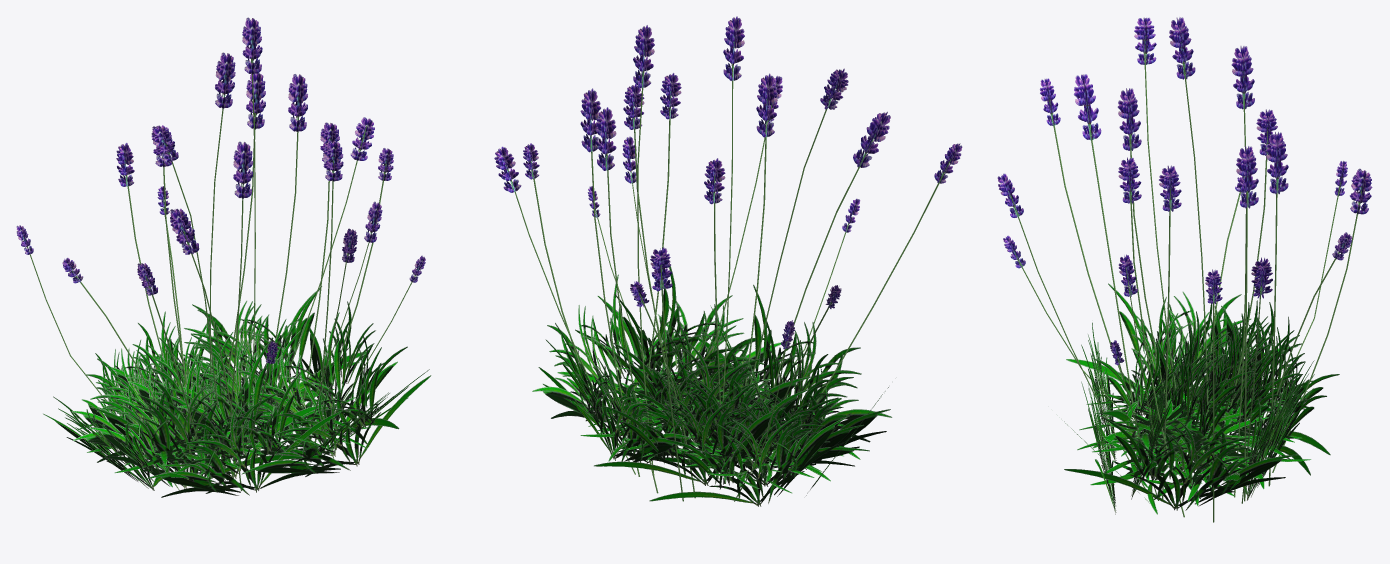
The model's file is lavender.fbx.
3 renders of one model, left to right at view 1: azimuth 30°, elevation 25°; view 2: azimuth 150°, elevation 25°; view 3: azimuth 270°, elevation 25°, orthographic. The views are drawn at different scales.
Parts seen in each view (by area): view 1: 134.001, 134.003, 134.018, 134.011, 134.009, 134.007, 134.015, 134.008, 134.017, 134.005, 134.013, 134.010 (+9 smaller); view 2: 134.016, 134.012, 134.007, 134.001, 134.015, 134.010, 134.013, 134.003, 134.011, 134.002, 134.014, 134.004 (+10 smaller); view 3: 134.007, 133.002, 133.001, 134.018, 134.010, 134.017, 134.004, 134.012, 134.015, 134.008, 134.009, 134.016 (+24 smaller).
Boxes of the visible parts, box(x1,y1,x2,y2) form: 134.001: box(146, 371, 342, 497); 134.003: box(241, 347, 431, 488); 134.018: box(90, 378, 304, 481); 134.011: box(210, 312, 397, 461); 134.009: box(131, 340, 323, 480); 134.007: box(301, 301, 407, 434); 134.015: box(150, 286, 366, 391); 134.008: box(89, 354, 210, 490); 134.017: box(43, 396, 188, 490); 134.005: box(73, 311, 224, 462); 134.013: box(143, 291, 359, 414); 134.010: box(177, 319, 314, 458); 134.016: box(649, 402, 847, 506); 134.012: box(594, 384, 785, 485); 134.007: box(532, 274, 658, 426); 134.001: box(698, 284, 892, 442); 134.015: box(538, 323, 682, 467); 134.010: box(585, 339, 810, 440); 134.013: box(543, 339, 689, 463); 134.003: box(602, 263, 764, 389); 134.011: box(575, 294, 752, 411); 134.002: box(557, 295, 790, 419); 134.014: box(664, 399, 863, 486); 134.004: box(621, 367, 808, 465); 134.007: box(1064, 417, 1298, 510); 133.002: box(1077, 393, 1268, 514); 133.001: box(1079, 395, 1258, 467); 134.018: box(1092, 296, 1209, 448); 134.010: box(1152, 326, 1237, 475); 134.017: box(1066, 283, 1297, 398); 134.004: box(1201, 314, 1280, 474); 134.012: box(1247, 315, 1326, 475); 134.015: box(1223, 362, 1313, 500); 134.008: box(1156, 303, 1254, 421); 134.009: box(1102, 327, 1226, 437); 134.016: box(1221, 302, 1339, 455).
Size of the model in its own units: 43.65 by 55.39 by 38.
Materials: 4 (4 with a texture image).
